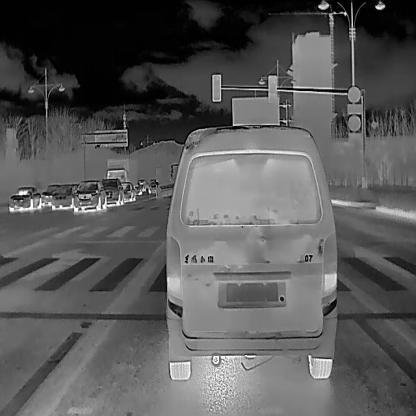car: (163, 124, 339, 384), (74, 181, 106, 210), (7, 184, 41, 210), (106, 157, 135, 183), (99, 176, 122, 205), (54, 185, 73, 207), (41, 181, 54, 206), (118, 181, 134, 201), (148, 181, 158, 193), (136, 180, 145, 192), (134, 185, 140, 195)
